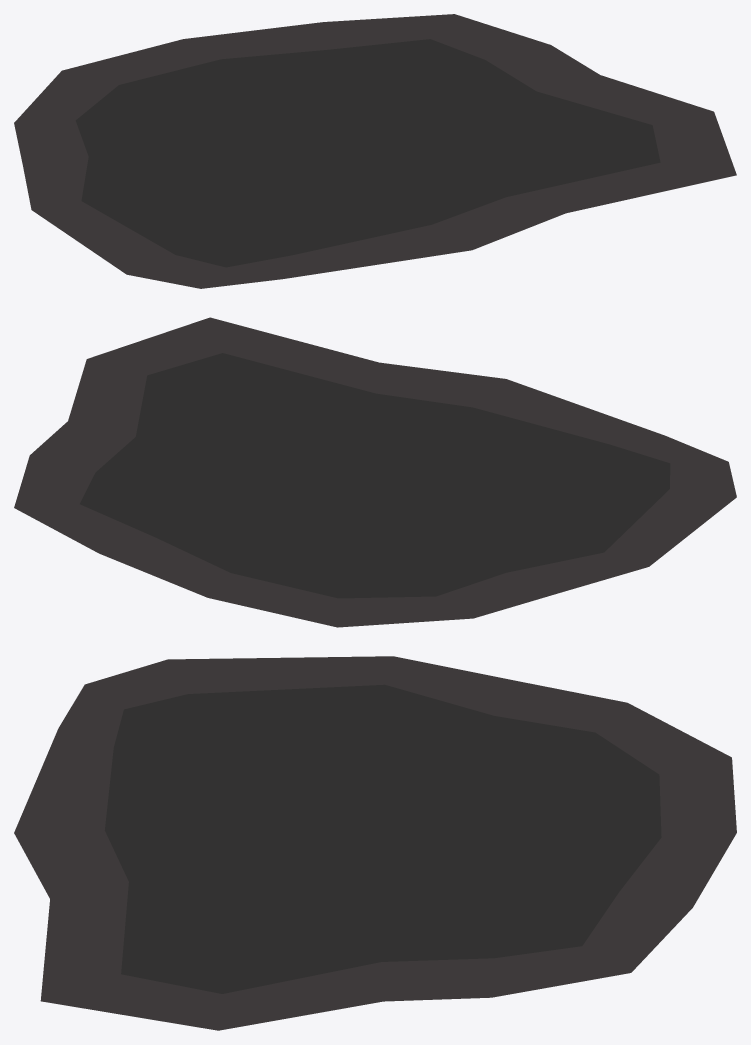
The model's file is Pothole2_light.glb.
3 renders of one model, top to bottom at view 1: azimuth 30°, elevation 25°; view 2: azimuth 150°, elevation 25°; view 3: azimuth 270°, elevation 25°, orthographic. The views are drawn at different scales.
Visible parts, largest first — view 1: Pothole2_light; view 2: Pothole2_light; view 3: Pothole2_light.
Boxes of the visible parts, x1,y1,x2,y2 form: Pothole2_light: (14,14,736,288); Pothole2_light: (14,317,736,627); Pothole2_light: (14,656,736,1030).
Bounding box in the file's own units: 2.18 × 3.92e-16 × 1.78.
Materials: 1 (1 with a texture image).
